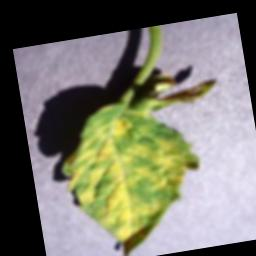Leaf_Mold: (49, 78, 243, 256)
